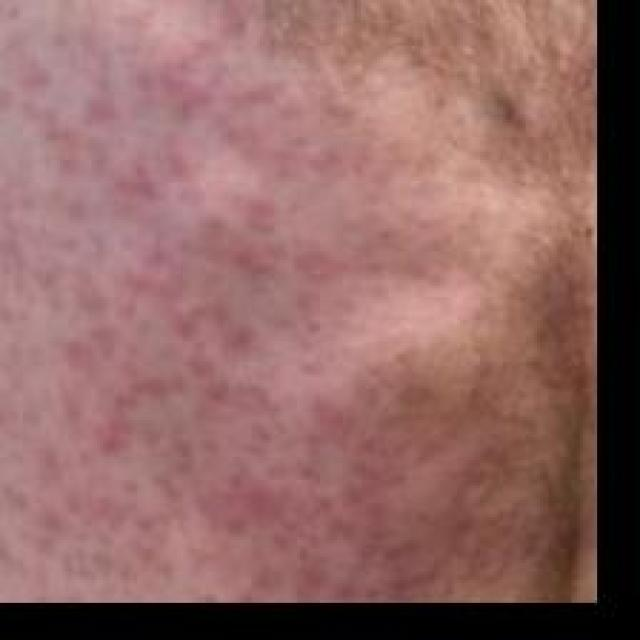monkeypox: (0, 0, 590, 600)
